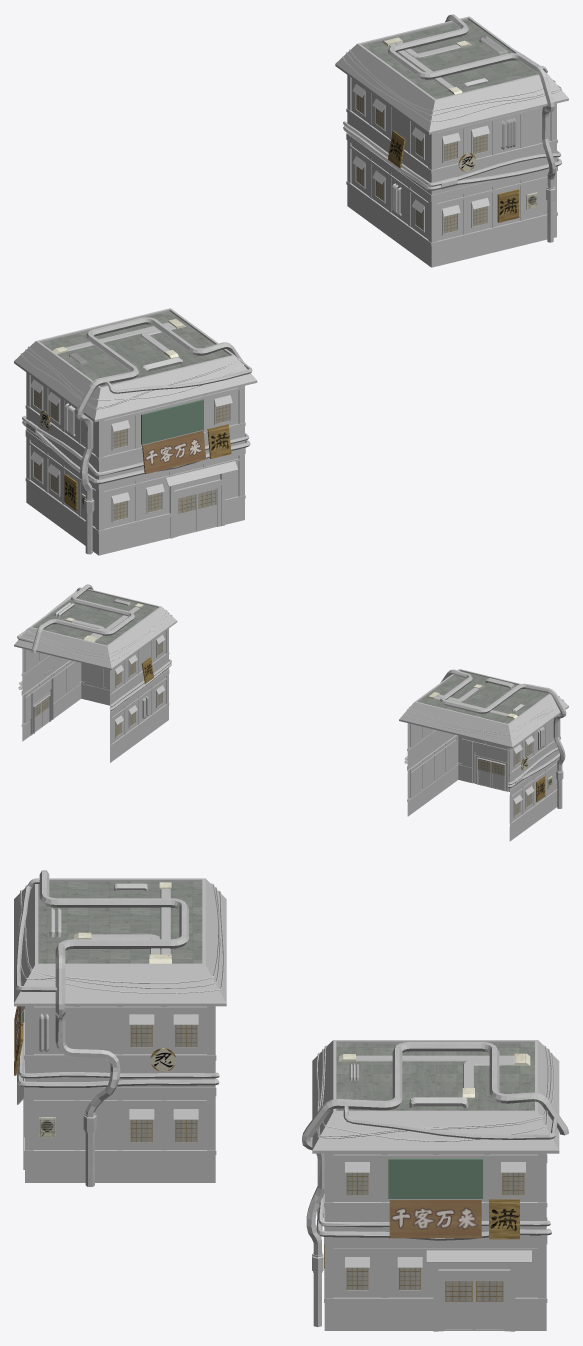
The model's file is MERGED_SM_ENV_KNVLLG_CommonBuilding_A_2.mo.fbx.
The picture shows the model from 3 angles, top to bottom: view 1: azimuth 30°, elevation 25°; view 2: azimuth 150°, elevation 25°; view 3: azimuth 270°, elevation 25°; orthographic projection. The views are drawn at different scales.
Visible parts, largest first — view 1: MERGED_SM_ENV_KNVLLG_CommonBuilding_A_2.mo; view 2: MERGED_SM_ENV_KNVLLG_CommonBuilding_A_2.mo; view 3: MERGED_SM_ENV_KNVLLG_CommonBuilding_A_2.mo.
Boxes of the visible parts, x1,y1,x2,y2 form: MERGED_SM_ENV_KNVLLG_CommonBuilding_A_2.mo: (14, 14, 568, 555); MERGED_SM_ENV_KNVLLG_CommonBuilding_A_2.mo: (14, 584, 568, 841); MERGED_SM_ENV_KNVLLG_CommonBuilding_A_2.mo: (14, 870, 568, 1331).
Size of the model in its own units: 57.77 by 24.61 by 35.5.
